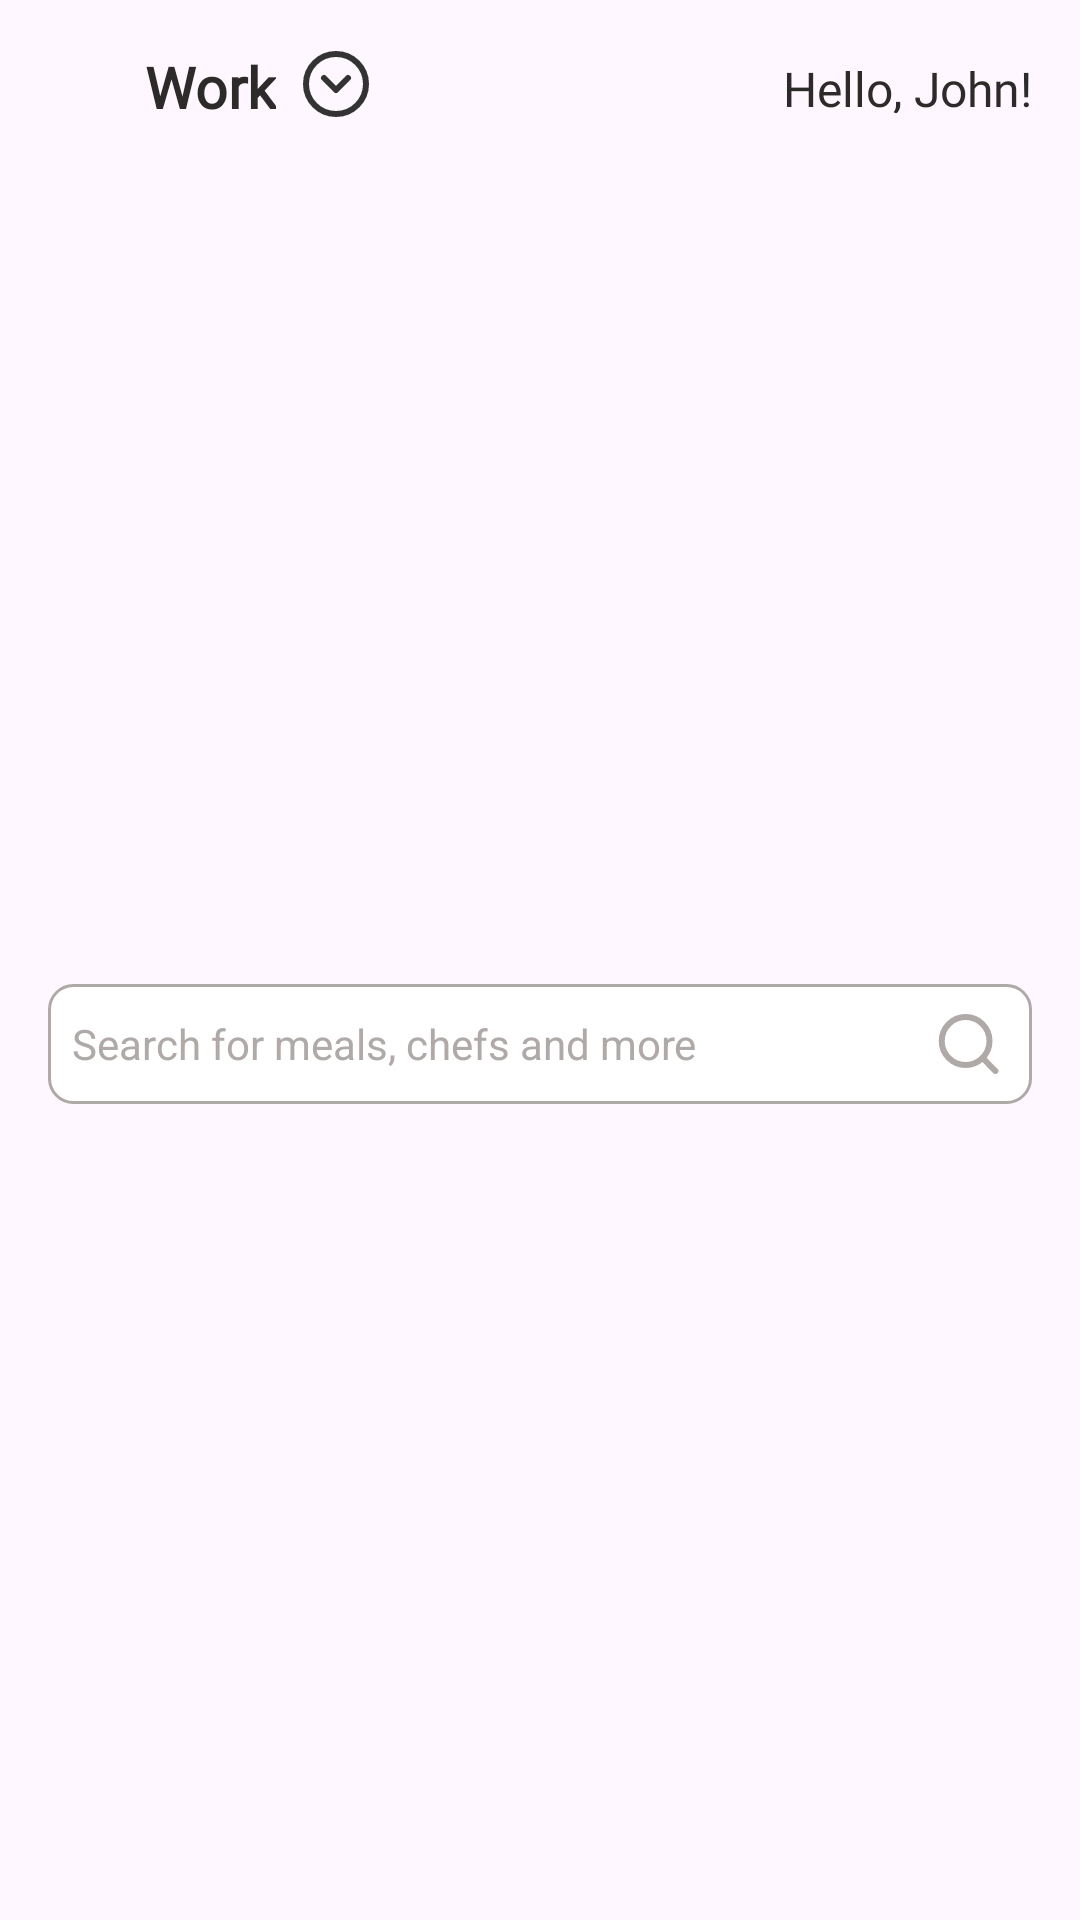

Where icons sit on this 1080px×1920px app screen, as rect(x1, y1, x2, y2):
down circle: rect(303, 51, 369, 117)
